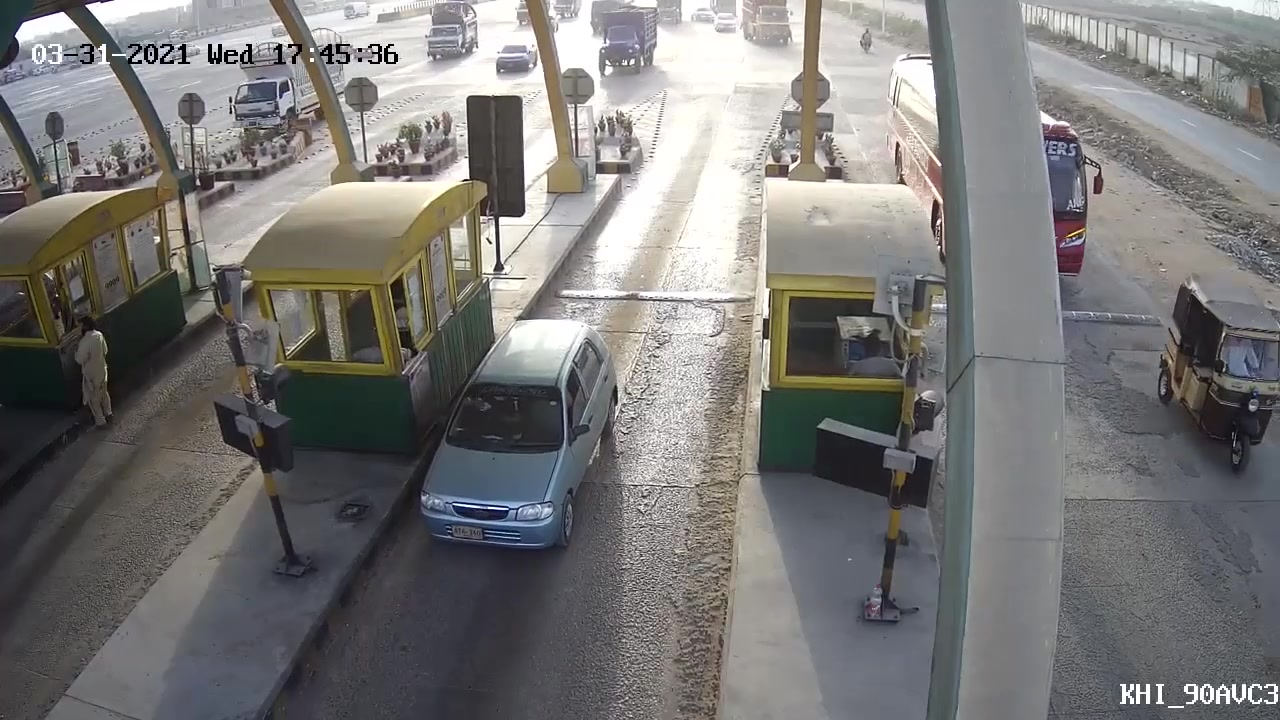F1: (404, 317, 620, 588)
